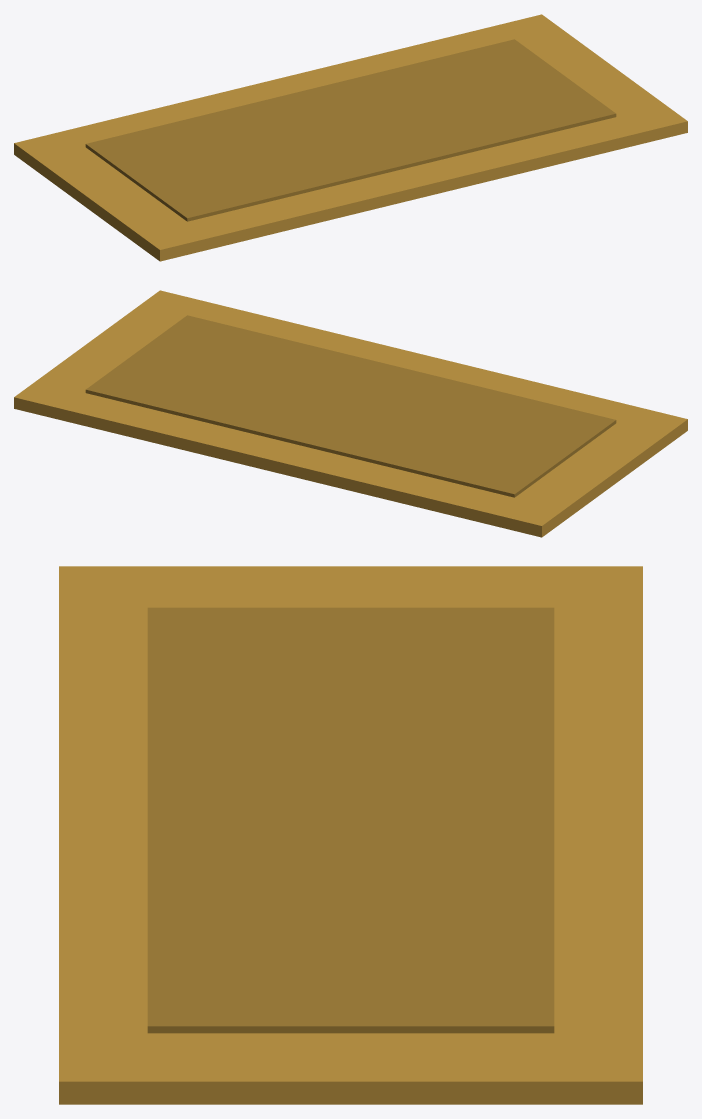
Rendered from door_mat.glb.
3 views of the same model, one above another, from view 1: azimuth 30°, elevation 25°; view 2: azimuth 150°, elevation 25°; view 3: azimuth 270°, elevation 25° (orthographic). The views are drawn at different scales.
Visible parts, largest first — view 1: body; view 2: body; view 3: body.
Part boxes in pixels (<box>): body: <box>14,14,687,261</box>; body: <box>14,290,687,537</box>; body: <box>59,566,642,1104</box>.
Size of the model in its own units: 0.96 by 0.026 by 0.46.
